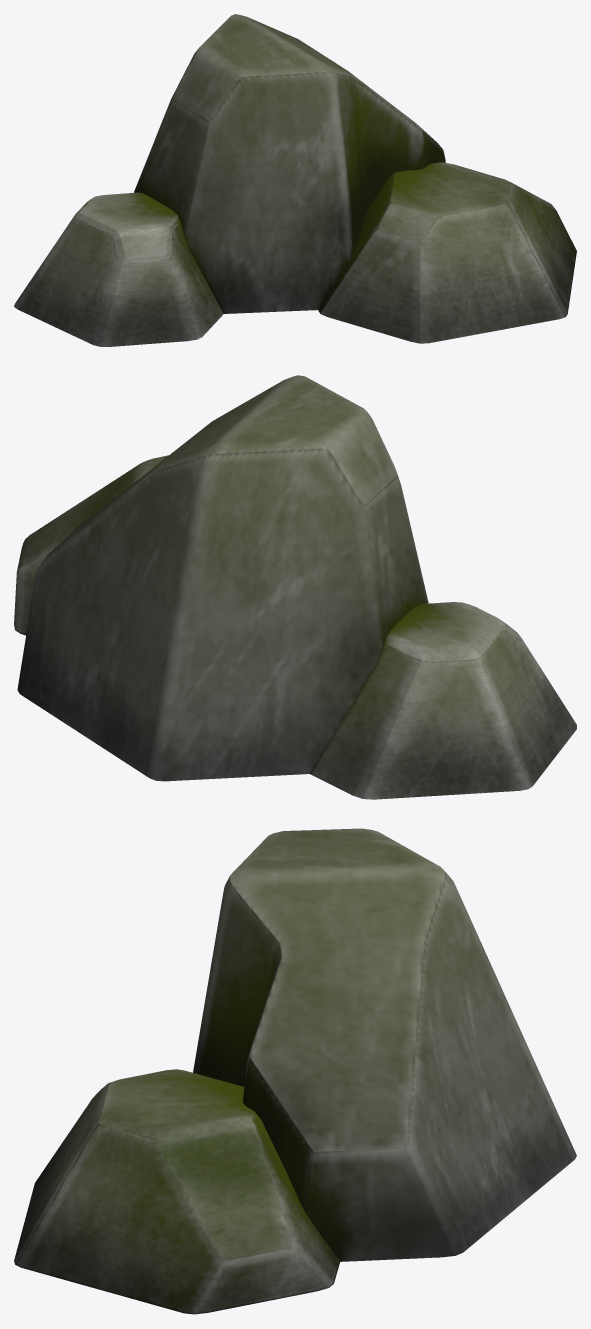
The model's file is rockSet1_unity.fbx.
3 views of the same model, one above another, from view 1: azimuth 30°, elevation 25°; view 2: azimuth 150°, elevation 25°; view 3: azimuth 270°, elevation 25° (orthographic). The views are drawn at different scales.
Parts seen in each view (by area): view 1: Object001; view 2: Object001; view 3: Object001.
Part boxes in pixels (x1,y1,x2,y2): Object001: (14,14,576,346); Object001: (14,375,576,799); Object001: (14,828,576,1314).
Size of the model in its own units: 55.94 by 43.63 by 25.17.
